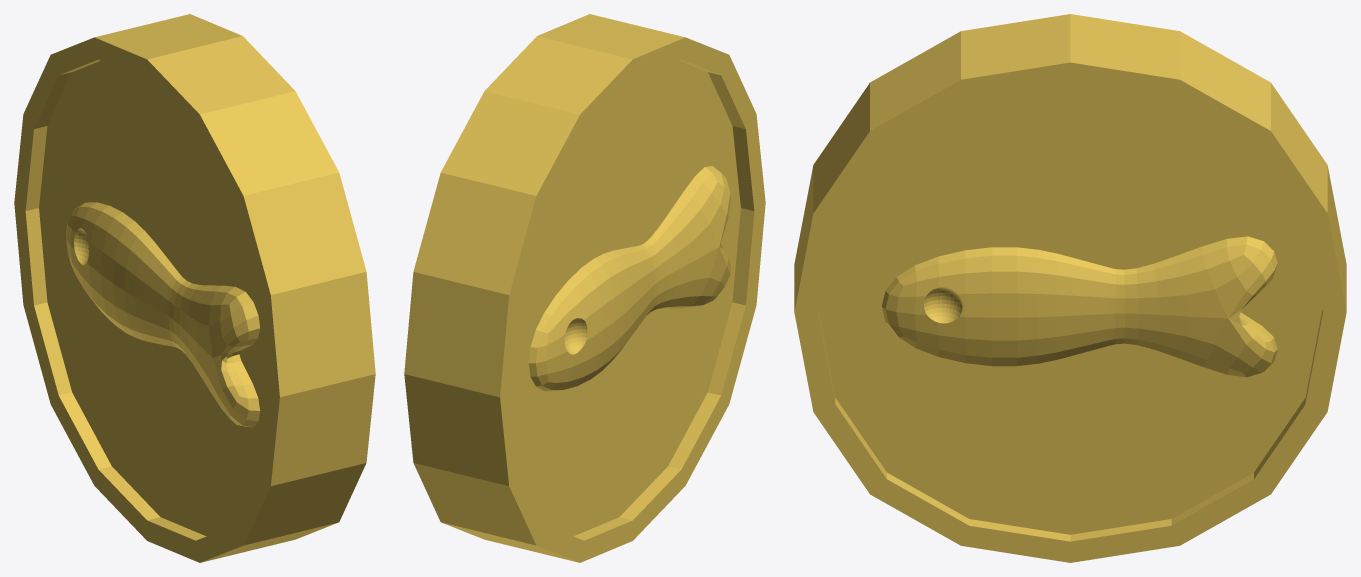
The model's file is COIN.fbx.
The picture shows the model from 3 angles, left to right: view 1: azimuth 30°, elevation 25°; view 2: azimuth 150°, elevation 25°; view 3: azimuth 270°, elevation 25°; orthographic projection. The views are drawn at different scales.
Visible parts, largest first — view 1: COIN; view 2: COIN; view 3: COIN.
Boxes of the visible parts, x1=… form: COIN: x1=14, y1=14, x2=375, y2=562; COIN: x1=404, y1=14, x2=765, y2=562; COIN: x1=794, y1=14, x2=1346, y2=562.
Bounding box in the file's own units: 4.06 × 15.82 × 15.82.
